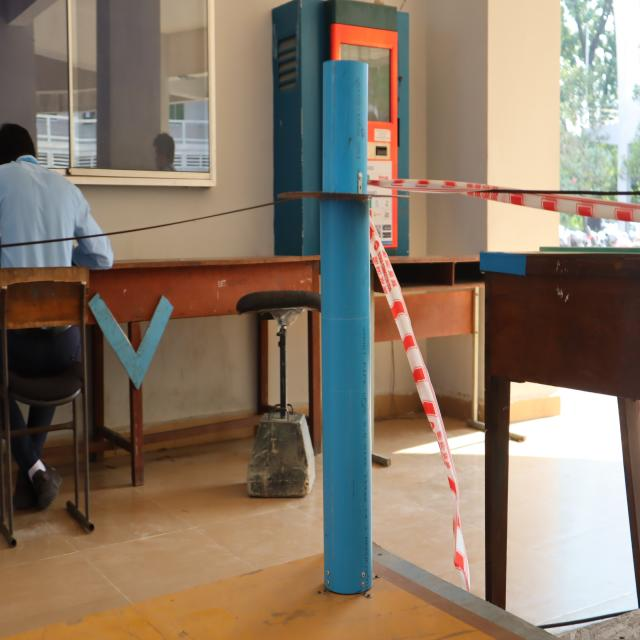pole: (279, 50, 409, 302)
